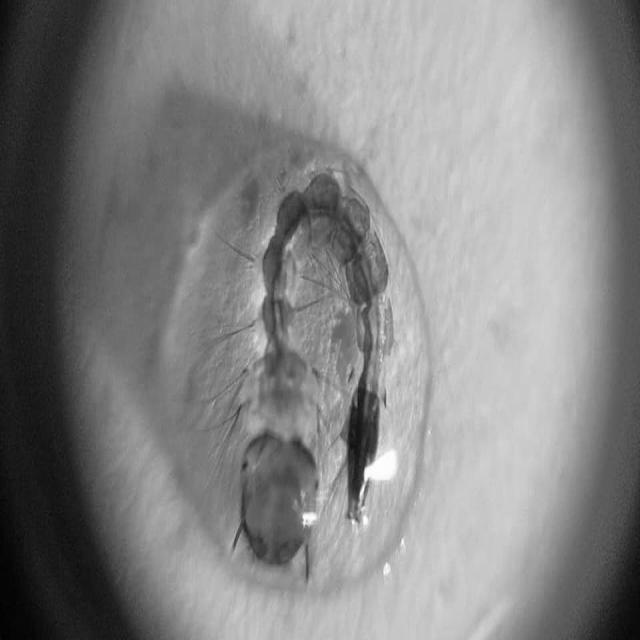larvas: (233, 160, 390, 563)
